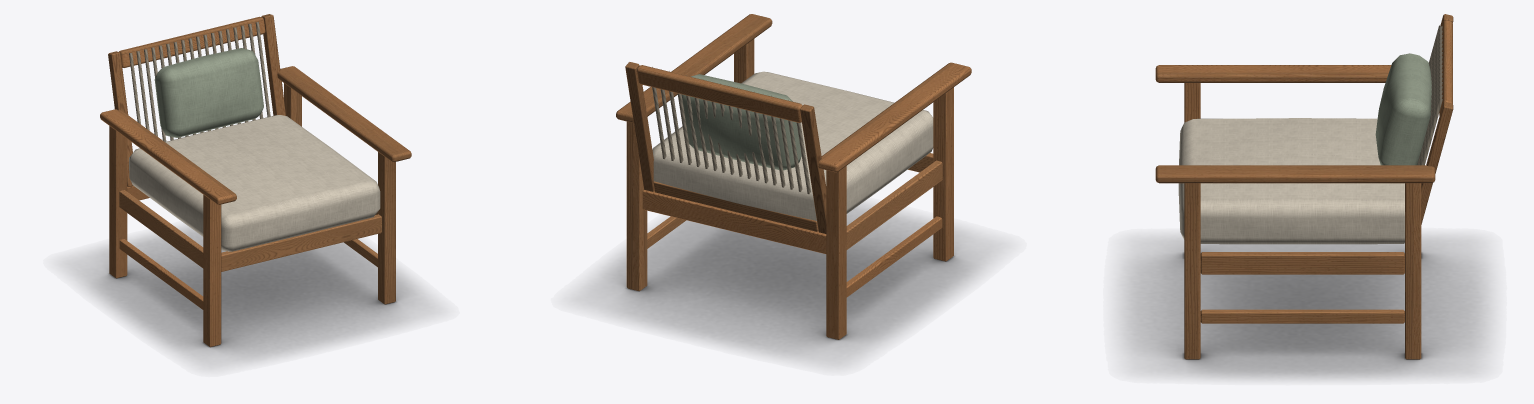
Rendered from lounge_chair.glb.
3 views of the same model, side by side, from view 1: azimuth 30°, elevation 25°; view 2: azimuth 150°, elevation 25°; view 3: azimuth 270°, elevation 25° (orthographic). The views are drawn at different scales.
Visible parts, largest first — view 1: lounge_chair_LOD0, lounge_chair_Shadow; view 2: lounge_chair_LOD0, lounge_chair_Shadow; view 3: lounge_chair_LOD0, lounge_chair_Shadow.
Part boxes in pixels (<box>): lounge_chair_LOD0: <box>100,14,411,346</box>; lounge_chair_Shadow: <box>68,227,432,364</box>; lounge_chair_LOD0: <box>616,14,971,339</box>; lounge_chair_Shadow: <box>580,204,993,362</box>; lounge_chair_LOD0: <box>1155,14,1453,359</box>; lounge_chair_Shadow: <box>1122,237,1488,378</box>.
Size of what is drawn, in the model's own units: 1.08 by 0.7393 by 1.17.
Materials: 5 (5 with a texture image).
